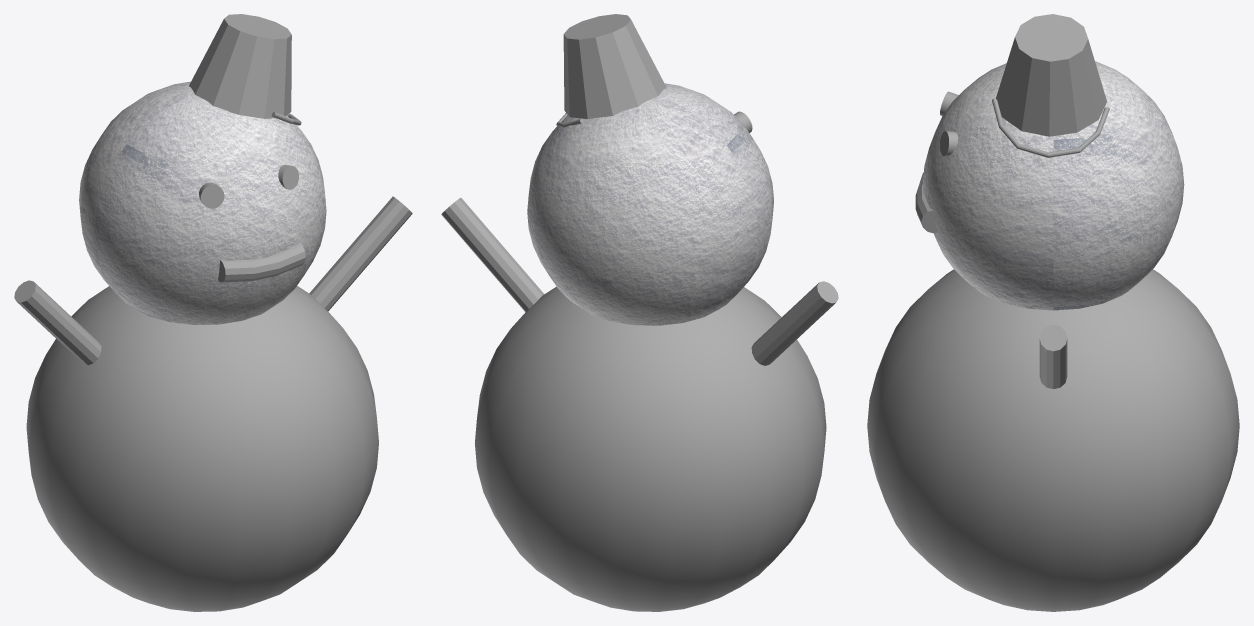
Rendered from snow.fbx.
3 views of the same model, side by side, from view 1: azimuth 30°, elevation 25°; view 2: azimuth 150°, elevation 25°; view 3: azimuth 270°, elevation 25° (orthographic). The views are drawn at different scales.
Parts seen in each view (by area): view 1: pSphere1, pSphere2, pCylinder2, pCylinder6, pCylinder7, pCylinder5, pCylinder3; view 2: pSphere1, pSphere2, pCylinder2, pCylinder6, pCylinder7; view 3: pSphere1, pSphere2, pCylinder2, pCylinder6, pTorus1, pCylinder5.
Boxes of the visible parts, x1,y1,x2,y2 form: pSphere1: (26,286,378,611); pSphere2: (79,81,326,324); pCylinder2: (189,14,291,118); pCylinder6: (309,196,412,311); pCylinder7: (14,280,101,365); pCylinder5: (218,242,305,282); pCylinder3: (199,182,224,208); pSphere1: (475,286,826,611); pSphere2: (527,83,773,325); pCylinder2: (563,14,666,118); pCylinder6: (441,197,544,312); pCylinder7: (751,281,838,365); pSphere1: (867,269,1239,611); pSphere2: (922,61,1184,310); pCylinder2: (995,14,1106,136); pCylinder6: (1039,324,1067,388); pTorus1: (992,98,1109,157); pCylinder5: (915,172,937,233).
Bounding box in the file's own units: 5.13 × 7.03 × 4.
